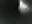person: (19, 1, 31, 16)
